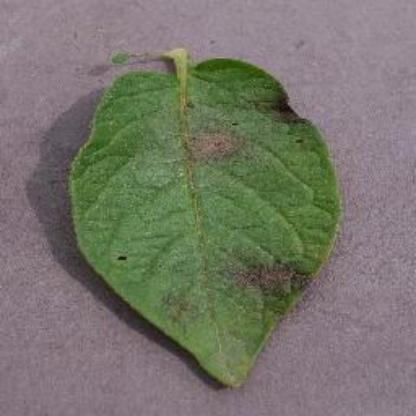Late-Blight: (55, 29, 359, 386)
